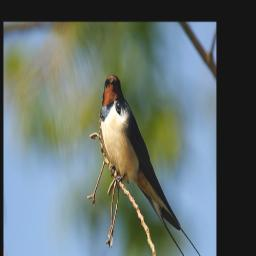Swallow: (101, 73, 209, 256)
